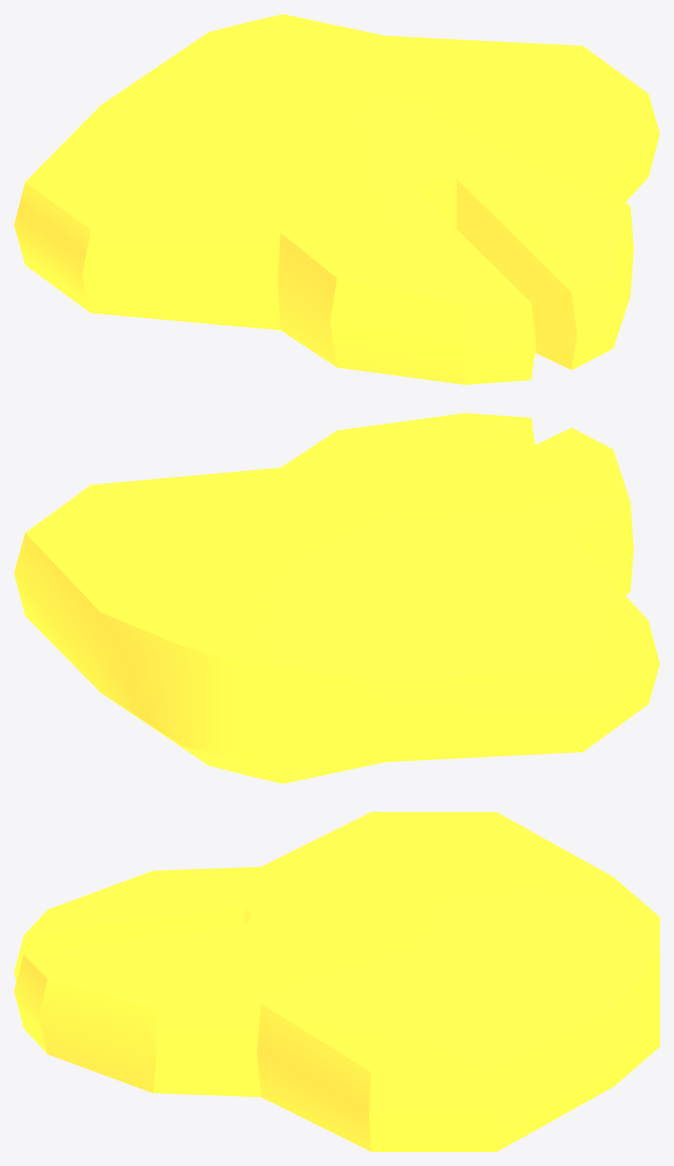
The model's file is 01_ship_light_faus_aegis.glb.
3 renders of one model, top to bottom at view 1: azimuth 30°, elevation 25°; view 2: azimuth 150°, elevation 25°; view 3: azimuth 270°, elevation 25°, orthographic. The views are drawn at different scales.
Visible parts, largest first — view 1: 01_ship_light_faus_aegis; view 2: 01_ship_light_faus_aegis; view 3: 01_ship_light_faus_aegis.
Part boxes in pixels (<box>): 01_ship_light_faus_aegis: <box>14,14,659,384</box>; 01_ship_light_faus_aegis: <box>14,413,659,783</box>; 01_ship_light_faus_aegis: <box>14,812,659,1151</box>.
Size of the model in its own units: 1.09 by 0.3672 by 1.11.
